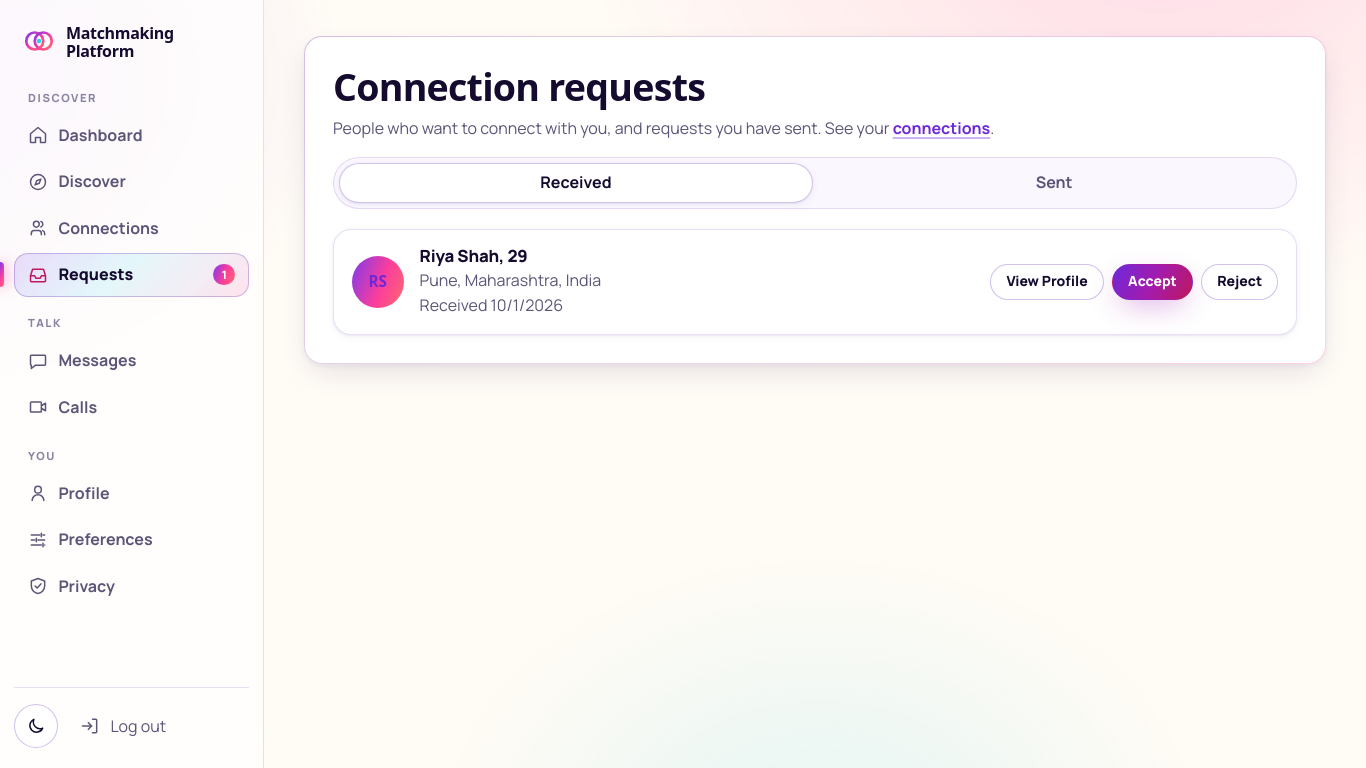
Scenario: connection requests page › shows the backend error when an action fails
Click the button "Accept": (1152, 282) [1112, 264, 1193, 300]
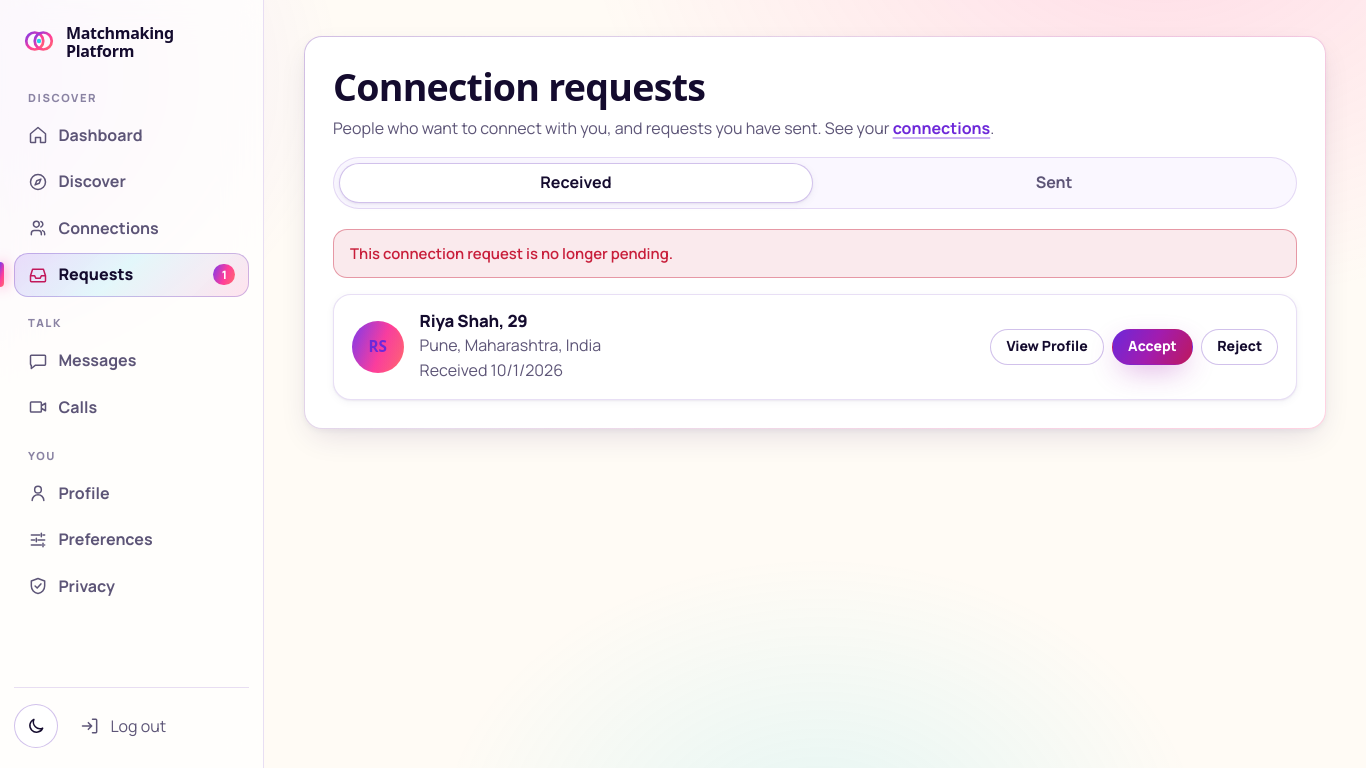
Result: the message reads "This connection request is no longer pending." at [350, 243, 673, 263]
